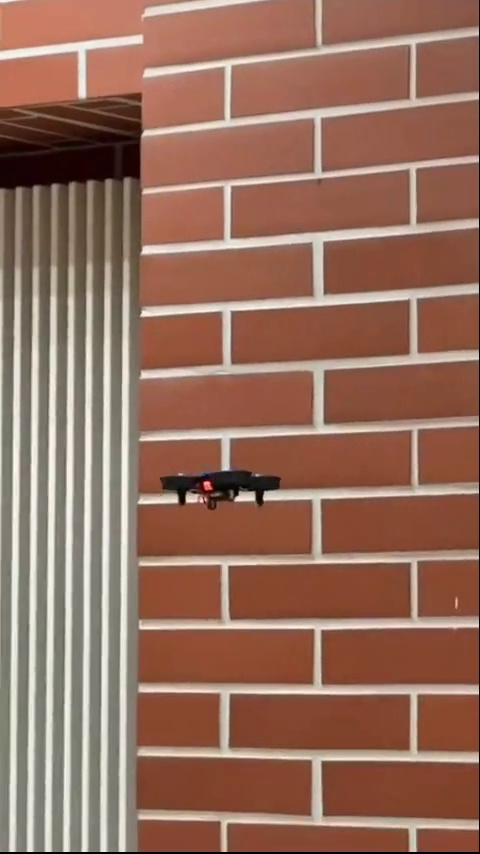drone: (162, 467, 285, 513)
